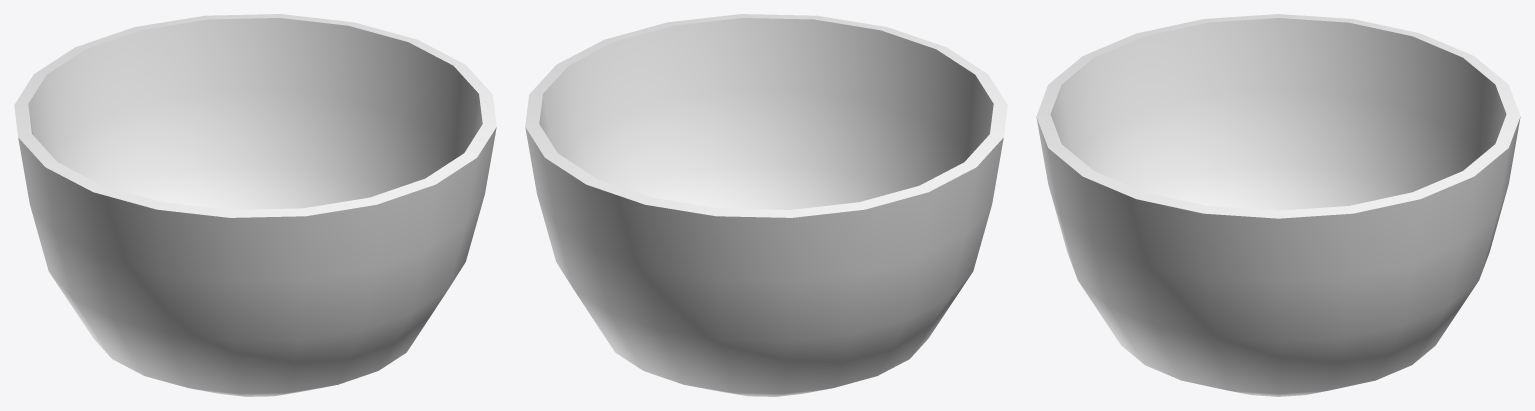
The model's file is helsiken pikkuosa.fbx.
3 views of the same model, side by side, from view 1: azimuth 30°, elevation 25°; view 2: azimuth 150°, elevation 25°; view 3: azimuth 270°, elevation 25° (orthographic).
Visible parts, largest first — view 1: Sphere002; view 2: Sphere002; view 3: Sphere002.
Part boxes in pixels (x1=…): Sphere002: x1=14, y1=14, x2=496, y2=396; Sphere002: x1=525, y1=14, x2=1007, y2=396; Sphere002: x1=1036, y1=14, x2=1520, y2=396.
Size of the model in its own units: 5.76 by 3.39 by 5.76.
